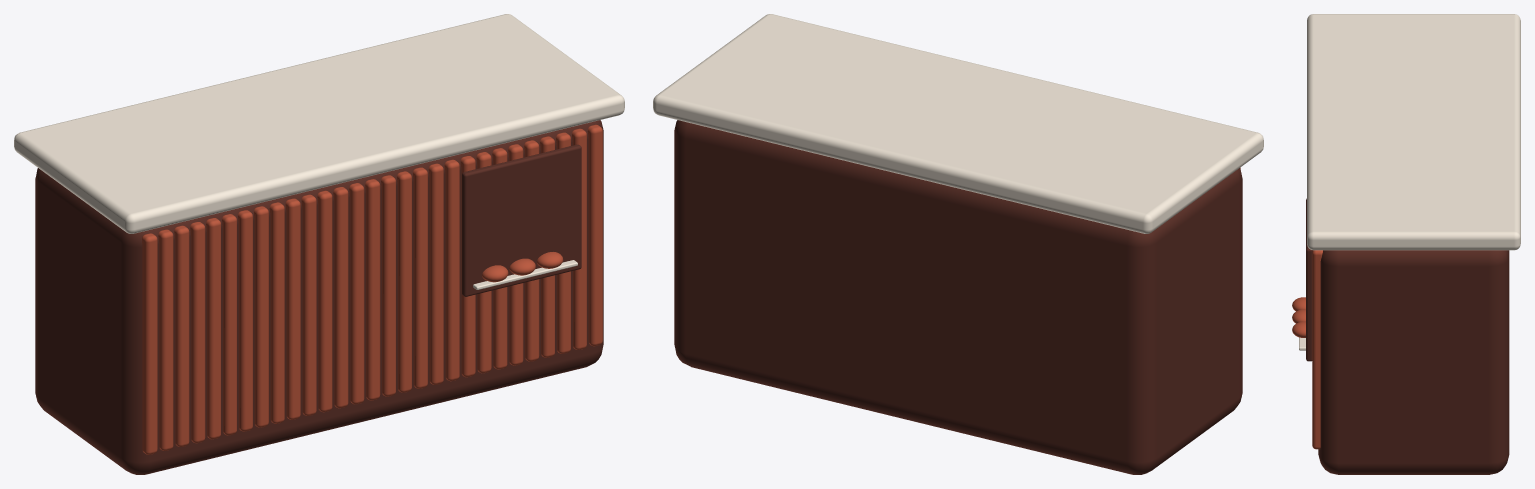
File: fluted-counter.glb
3 views of the same model, side by side, from view 1: azimuth 30°, elevation 25°; view 2: azimuth 150°, elevation 25°; view 3: azimuth 270°, elevation 25° (orthographic). The views are drawn at different scales.
Visible parts, largest first — view 1: surface-#B5543A,0,0.7, surface-#F0E6D8,0,0.7, surface-#5A2E25,0,0.7; view 2: surface-#5A2E25,0,0.7, surface-#F0E6D8,0,0.7; view 3: surface-#F0E6D8,0,0.7, surface-#5A2E25,0,0.7, surface-#B5543A,0,0.7.
Part boxes in pixels (x1=…): surface-#B5543A,0,0.7: x1=142, y1=124, x2=602, y2=454; surface-#F0E6D8,0,0.7: x1=14, y1=14, x2=624, y2=289; surface-#5A2E25,0,0.7: x1=35, y1=120, x2=603, y2=474; surface-#5A2E25,0,0.7: x1=674, y1=120, x2=1242, y2=474; surface-#F0E6D8,0,0.7: x1=653, y1=14, x2=1263, y2=233; surface-#F0E6D8,0,0.7: x1=1299, y1=14, x2=1520, y2=350; surface-#5A2E25,0,0.7: x1=1306, y1=198, x2=1509, y2=474; surface-#B5543A,0,0.7: x1=1292, y1=250, x2=1322, y2=449.
Size of the model in its own units: 1.82 by 0.96 by 0.791.
